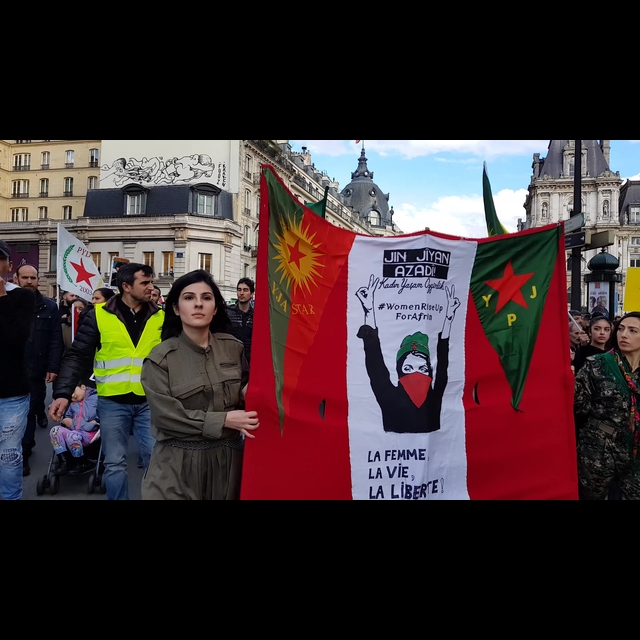PYD: (61, 231, 98, 295)
